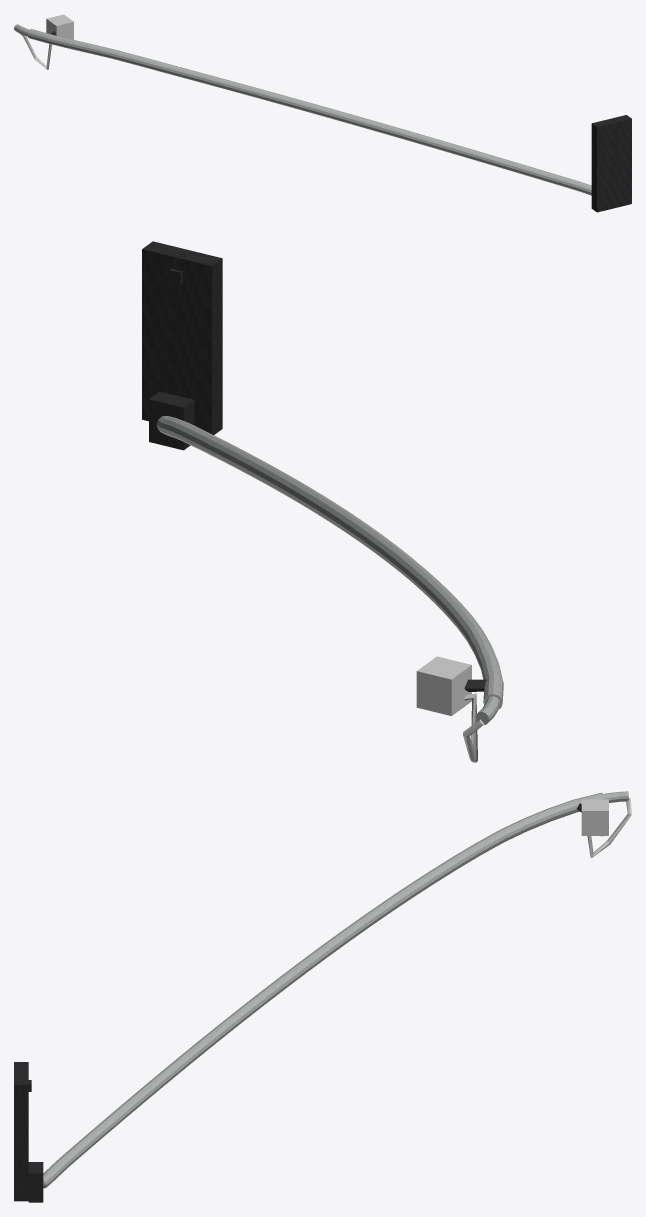
Rendered from arm_5_left_right_wired.obj.
The picture shows the model from 3 angles, top to bottom: view 1: azimuth 30°, elevation 25°; view 2: azimuth 150°, elevation 25°; view 3: azimuth 270°, elevation 25°; orthographic projection. The views are drawn at different scales.
Visible parts, largest first — view 1: pole_light_mount_5_left_right_wired; view 2: pole_light_mount_5_left_right_wired; view 3: pole_light_mount_5_left_right_wired.
Part boxes in pixels (bbox=[...]): pole_light_mount_5_left_right_wired: bbox=[14, 14, 631, 212]; pole_light_mount_5_left_right_wired: bbox=[142, 241, 503, 762]; pole_light_mount_5_left_right_wired: bbox=[14, 791, 631, 1202].
Size of the model in its own units: 4.22 by 1.24 by 4.21.
